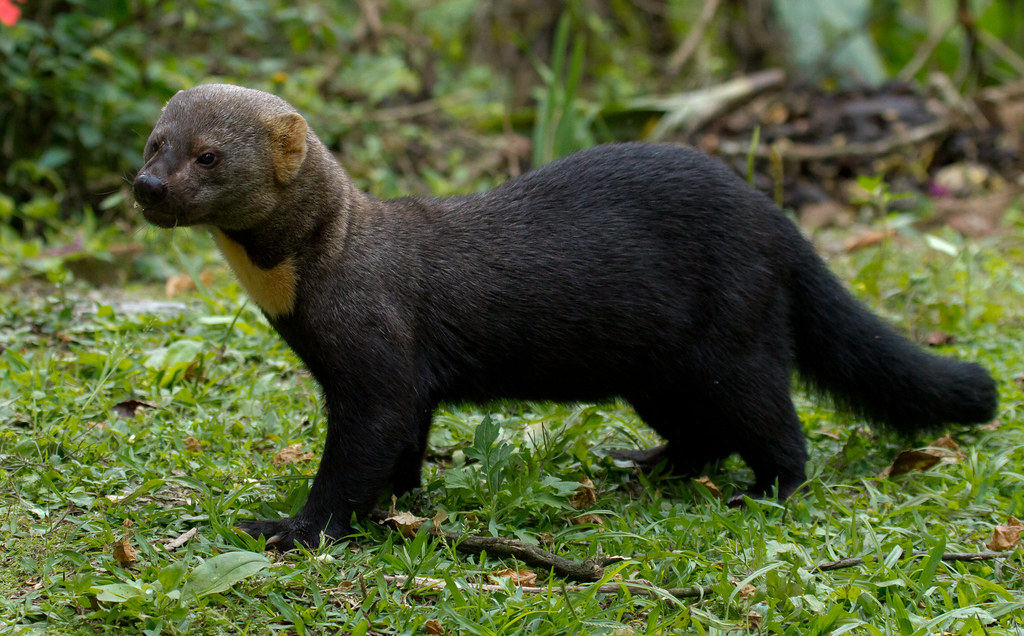Jaguarundi: (120, 73, 1003, 556)
